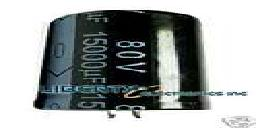Electrolytic-Capacitor: (31, 8, 213, 122)
